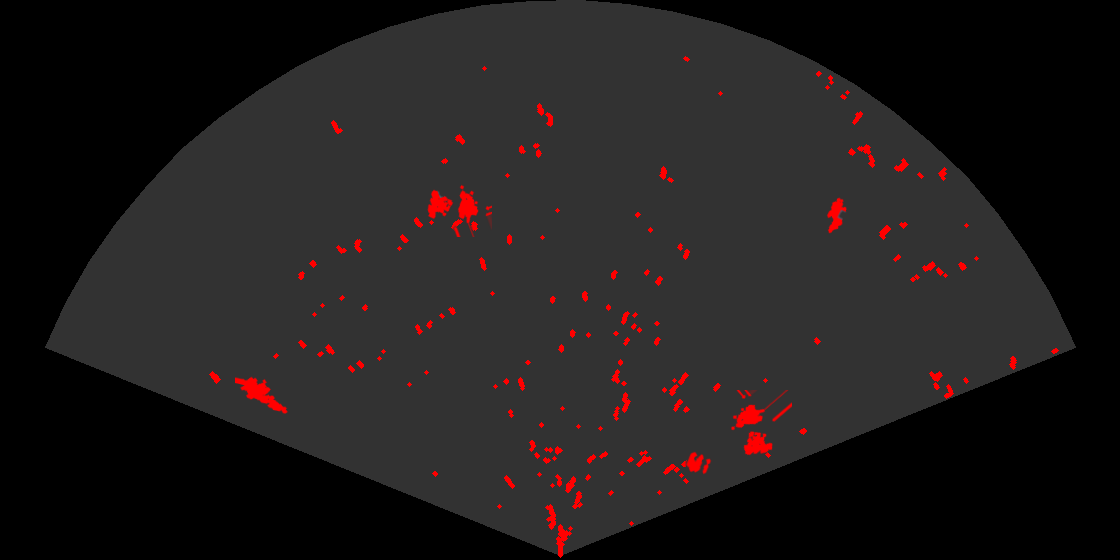AUV: (825, 196, 848, 235)
ball: (685, 450, 713, 476)
cage: (729, 390, 792, 457), (426, 183, 492, 237)
frogman: (235, 375, 290, 415)
